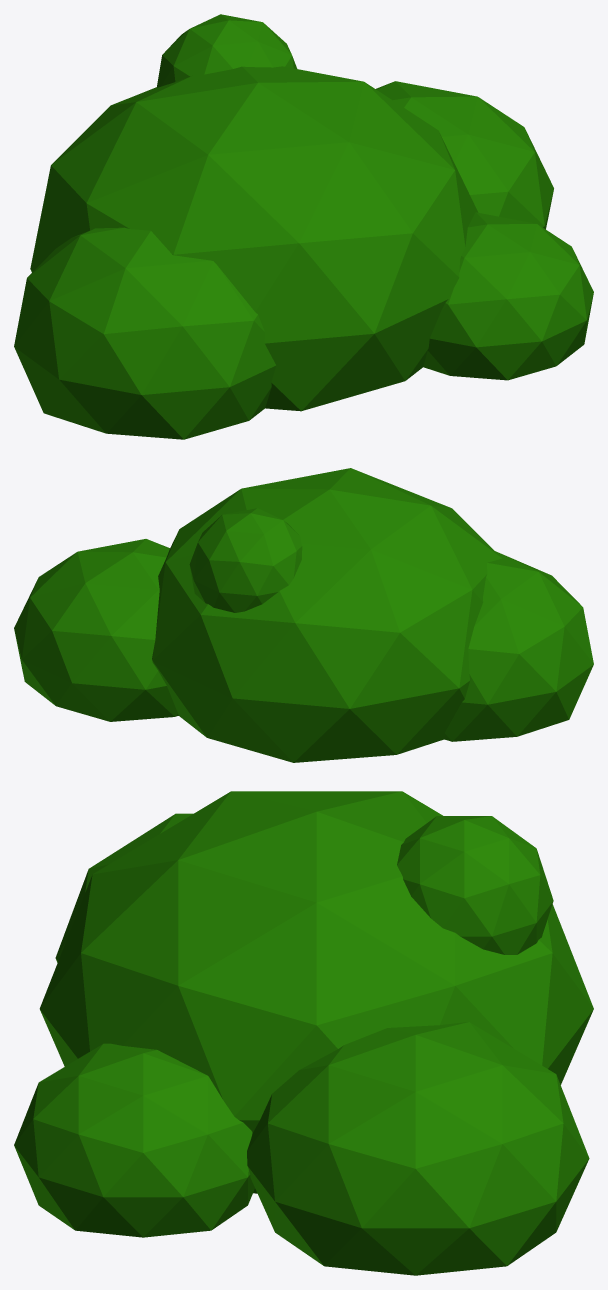
Rendered from Bush.glb.
The picture shows the model from 3 angles, top to bottom: view 1: azimuth 30°, elevation 25°; view 2: azimuth 150°, elevation 25°; view 3: azimuth 270°, elevation 25°; orthographic projection. The views are drawn at different scales.
Visible parts, largest first — view 1: Bush; view 2: Bush; view 3: Bush.
Part boxes in pixels (x1,y1,x2,y2): Bush: (14, 14, 593, 439); Bush: (14, 468, 593, 762); Bush: (14, 791, 593, 1275).
Bounding box in the file's own units: 3.62 × 1.52 × 2.67.
